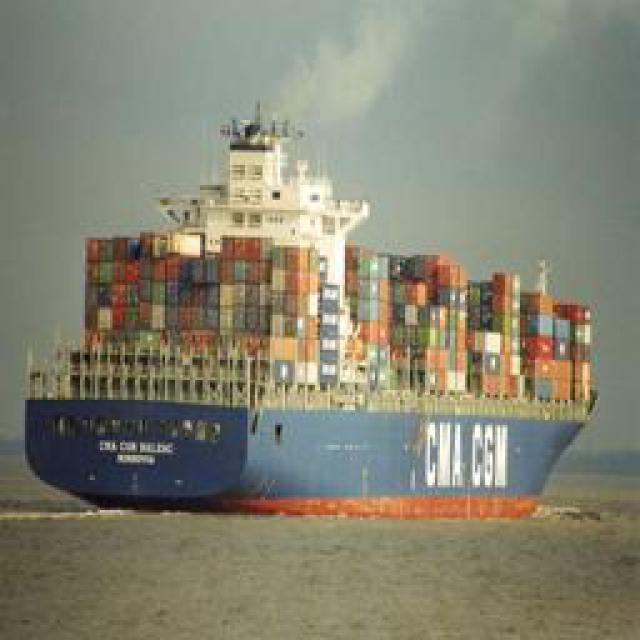Ship: (24, 93, 606, 525)
